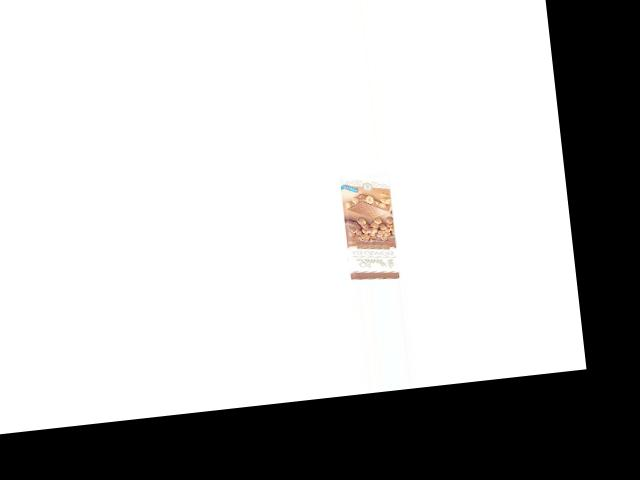chocolate: (336, 177, 407, 280)
